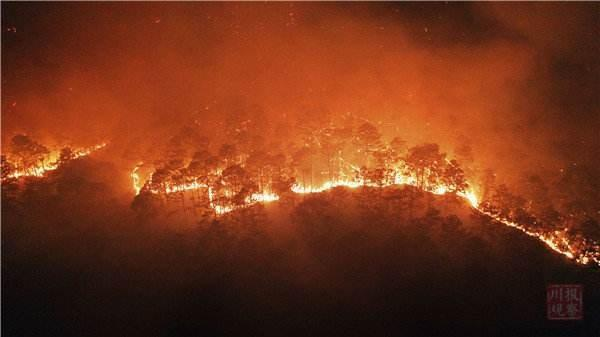fire: (127, 155, 514, 216), (478, 207, 598, 267), (5, 130, 109, 184)
